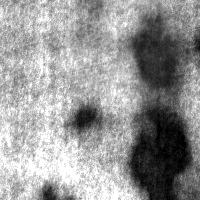patches: (52, 0, 190, 118), (129, 106, 190, 200), (131, 14, 179, 90), (71, 104, 98, 130)
